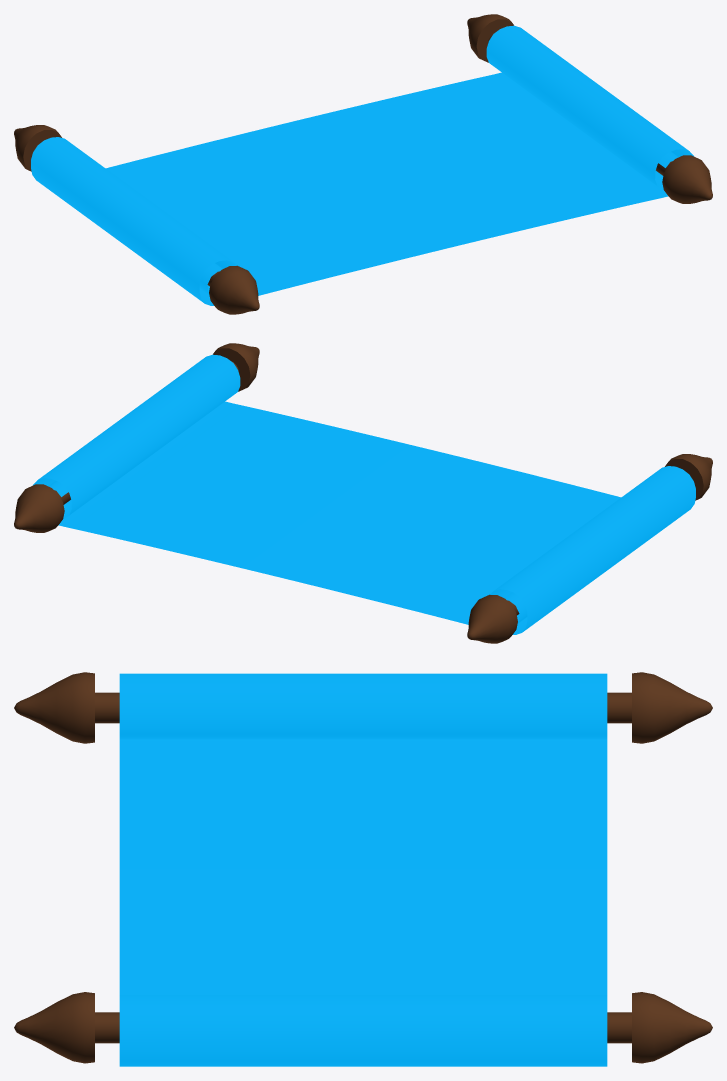
File: 3dclubscroll.fbx
3 views of the same model, one above another, from view 1: azimuth 30°, elevation 25°; view 2: azimuth 150°, elevation 25°; view 3: azimuth 270°, elevation 25° (orthographic). The views are drawn at different scales.
Visible parts, largest first — view 1: scrollpaper; view 2: scrollpaper; view 3: scrollpaper.
Part boxes in pixels (x1,y1,x2,y2): scrollpaper: (14, 14, 712, 314); scrollpaper: (14, 343, 712, 643); scrollpaper: (14, 672, 712, 1066).
Size of the model in its own units: 1.05 by 0.8879 by 0.0943.
